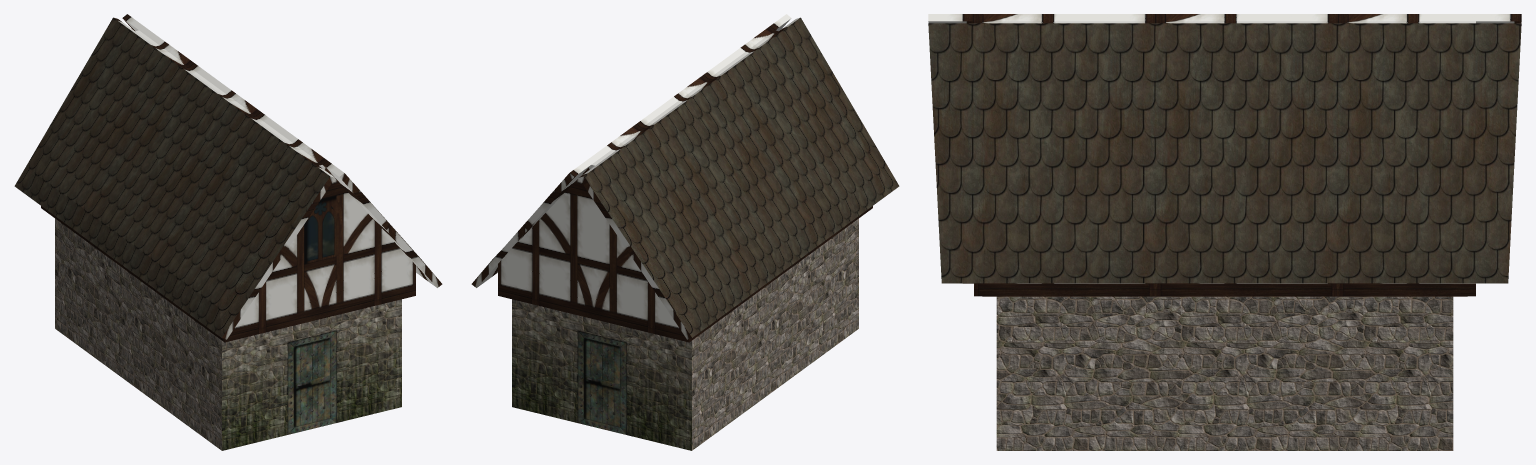
File: building_4.FBX
The picture shows the model from 3 angles, left to right: view 1: azimuth 30°, elevation 25°; view 2: azimuth 150°, elevation 25°; view 3: azimuth 270°, elevation 25°; orthographic projection. The views are drawn at different scales.
Visible parts, largest first — view 1: Box001; view 2: Box001; view 3: Box001.
Boxes of the visible parts, x1,y1,x2,y2 form: Box001: (14, 14, 442, 450); Box001: (471, 14, 899, 450); Box001: (928, 14, 1521, 450).
Size of the model in its own units: 763 by 901 by 1300.
5 materials, 5 textured.
